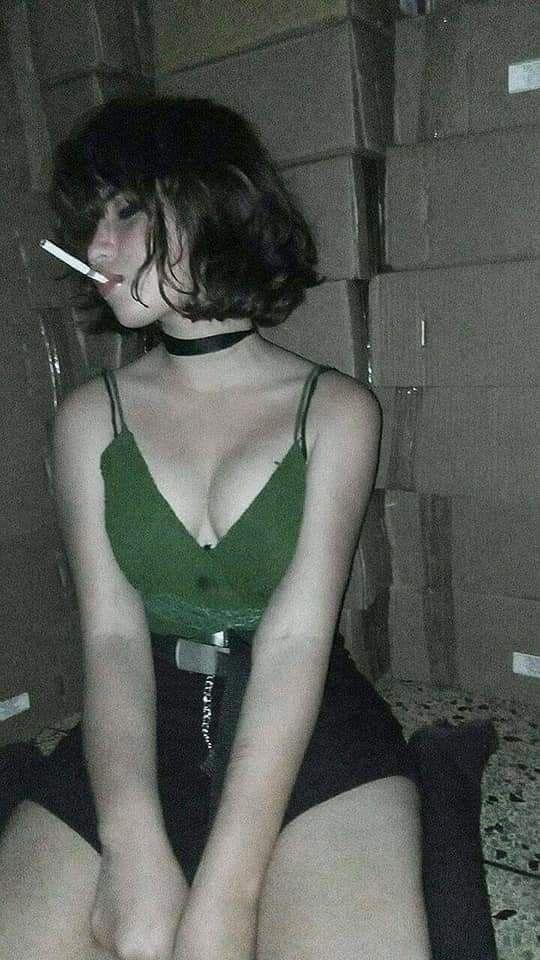cigarette: (38, 237, 110, 285)
